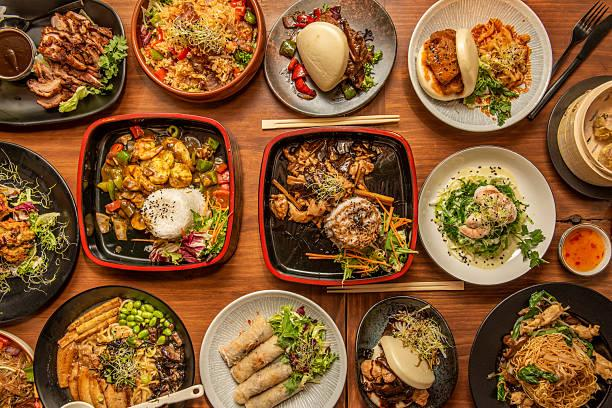Braised Crucian Carp: (76, 111, 238, 269), (256, 126, 410, 283), (416, 145, 555, 285), (32, 285, 195, 404), (408, 1, 552, 133), (467, 283, 611, 405), (199, 290, 346, 405), (2, 0, 127, 127), (262, 0, 392, 117), (1, 139, 81, 320), (130, 1, 265, 103), (355, 295, 457, 404)
